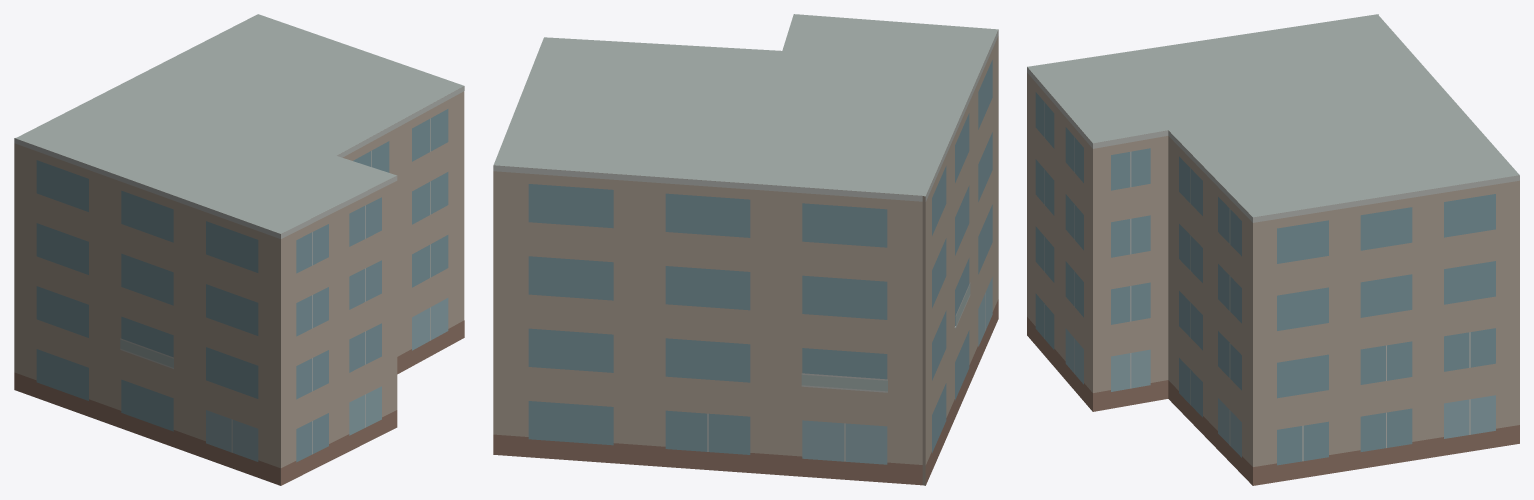
Rendered from survey-upis-32844637.glb.
3 renders of one model, left to right at view 1: azimuth 30°, elevation 25°; view 2: azimuth 150°, elevation 25°; view 3: azimuth 270°, elevation 25°, orthographic. The views are drawn at different scales.
Parts seen in each view (by area): view 1: survey-upis-32844637.tmp; view 2: survey-upis-32844637.tmp; view 3: survey-upis-32844637.tmp.
Part boxes in pixels (left/top/right/bottom): survey-upis-32844637.tmp: left=14, top=14, right=464, bottom=485; survey-upis-32844637.tmp: left=493, top=14, right=998, bottom=485; survey-upis-32844637.tmp: left=1027, top=14, right=1519, bottom=485.
Size of the model in its own units: 19.34 by 11.9 by 19.8.
